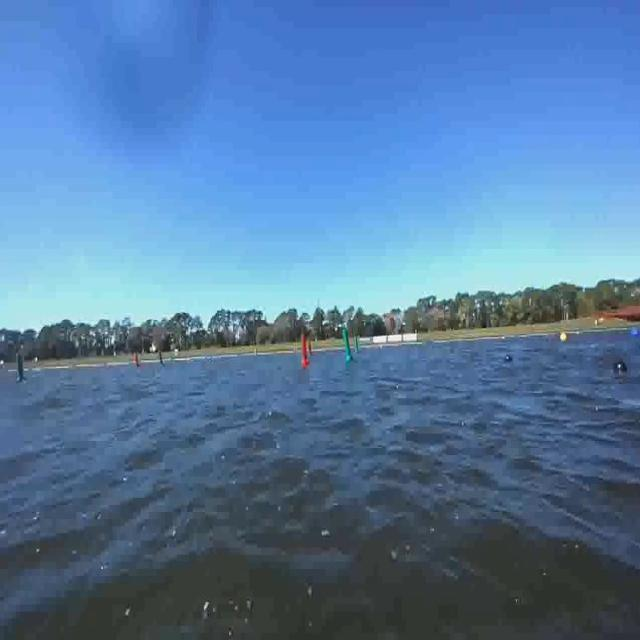black-buoy: (616, 362, 626, 376), (505, 352, 514, 364)
blue-buoy: (630, 327, 640, 340)
green-column-buoy: (344, 327, 355, 360), (15, 352, 25, 382), (160, 350, 167, 368)
red-column-buoy: (302, 336, 311, 366), (134, 352, 142, 369)
yellow-buoy: (560, 332, 568, 346)
